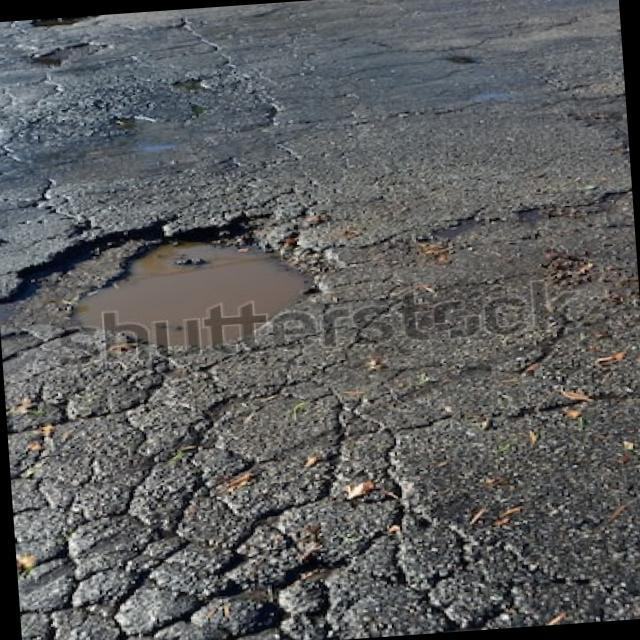Pothole: (25, 198, 332, 364)
